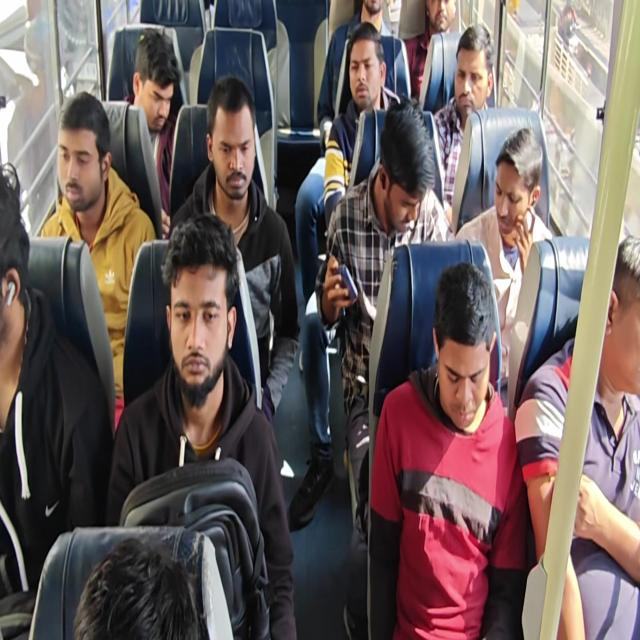person: (2, 2, 638, 638), (105, 212, 298, 638), (312, 98, 454, 637), (367, 261, 528, 638), (0, 161, 113, 638), (514, 233, 639, 638), (167, 74, 300, 422), (37, 91, 157, 433), (295, 1, 397, 305), (455, 126, 554, 393), (322, 21, 394, 232), (72, 535, 202, 639), (431, 23, 495, 225), (122, 29, 182, 236), (403, 0, 457, 104)
